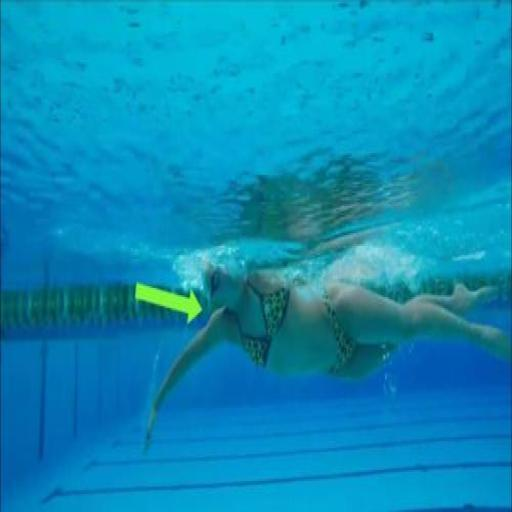swimming: (139, 250, 509, 456)
